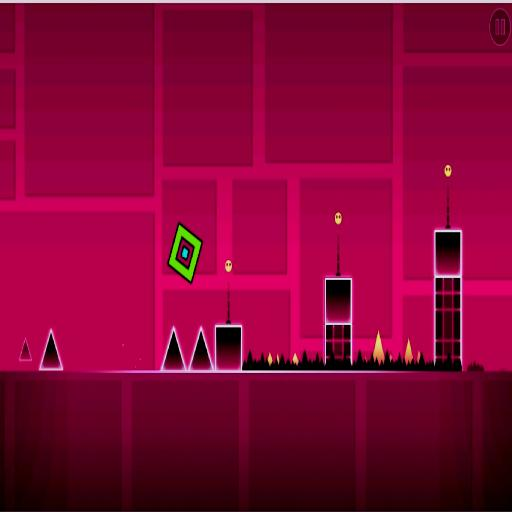block: (433, 230, 462, 360), (324, 279, 352, 363), (215, 321, 242, 369)
player: (168, 223, 202, 282)
spike: (161, 327, 186, 370), (40, 329, 63, 370), (189, 328, 212, 369), (373, 332, 384, 362), (19, 339, 31, 360), (404, 339, 413, 364), (291, 353, 298, 366), (267, 353, 272, 366)
